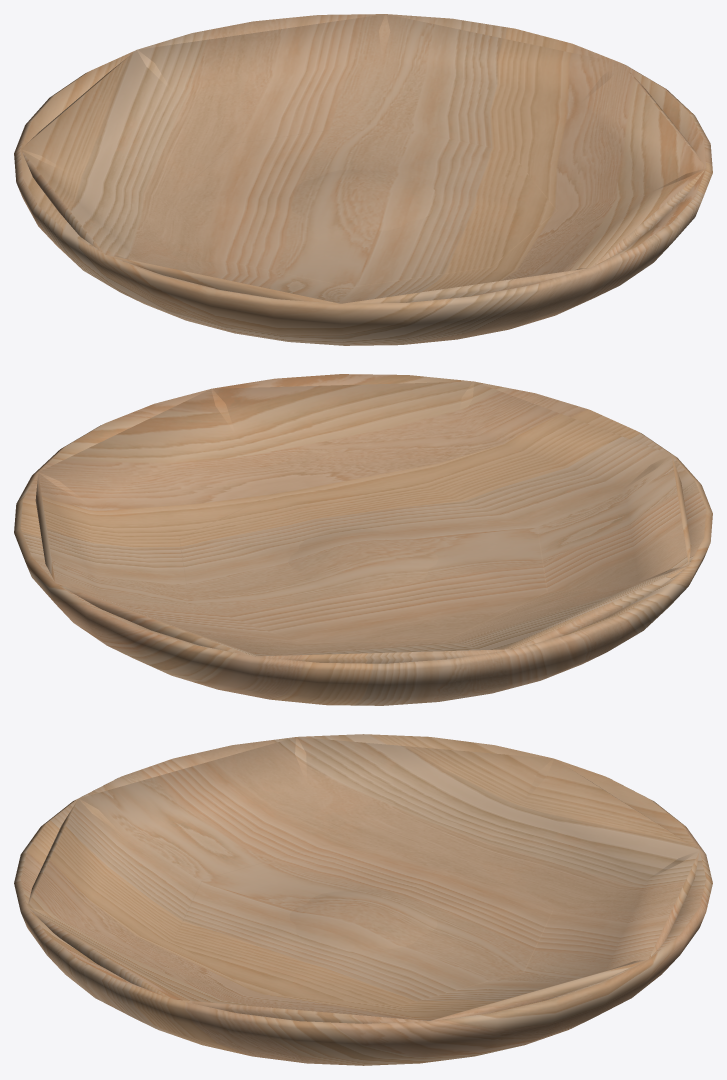
File: Bowl.fbx
The picture shows the model from 3 angles, top to bottom: view 1: azimuth 30°, elevation 25°; view 2: azimuth 150°, elevation 25°; view 3: azimuth 270°, elevation 25°; orthographic projection.
Visible parts, largest first — view 1: Simplified, BowlMain; view 2: Simplified, BowlMain; view 3: Simplified, BowlMain.
Part boxes in pixels (x1,y1,x2,y2): Simplified: (21, 14, 705, 321); BowlMain: (14, 14, 712, 345); Simplified: (35, 381, 691, 675); BowlMain: (14, 374, 712, 705); Simplified: (27, 737, 699, 1041); BowlMain: (14, 734, 712, 1065).
Size of the model in its own units: 800 by 103 by 800.
